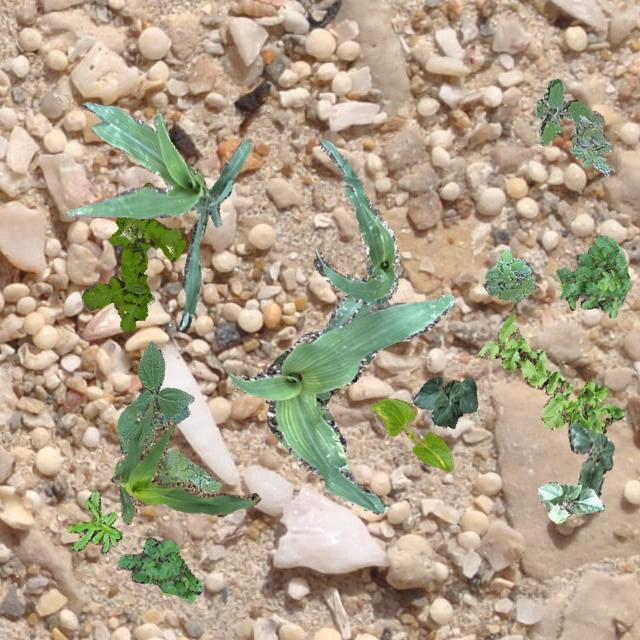crop: (228, 292, 454, 514), (66, 100, 250, 332), (112, 401, 260, 524), (312, 138, 399, 304), (116, 340, 194, 452), (368, 396, 454, 471), (566, 419, 614, 496), (412, 376, 476, 428), (536, 480, 604, 522), (270, 349, 288, 366)
weed: (478, 312, 622, 432), (80, 182, 184, 332), (556, 235, 628, 318), (116, 536, 202, 602), (534, 78, 590, 146), (66, 490, 121, 552), (568, 110, 612, 174), (484, 248, 536, 300), (157, 448, 220, 490)
